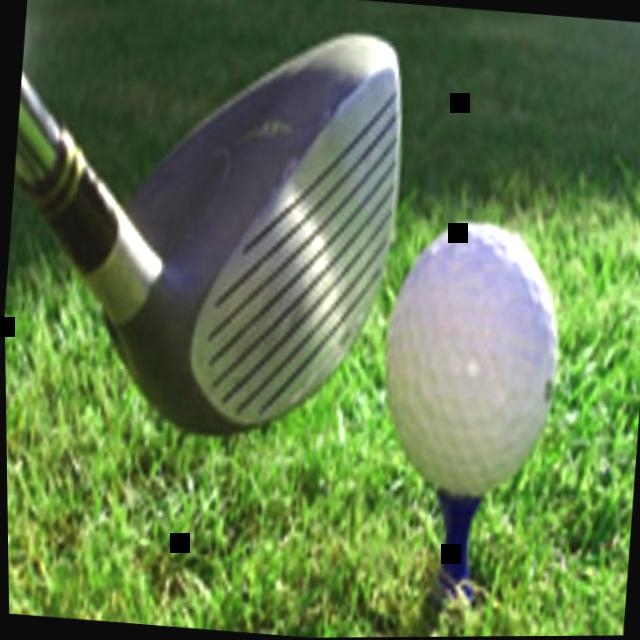golf ball: (362, 203, 586, 525)
